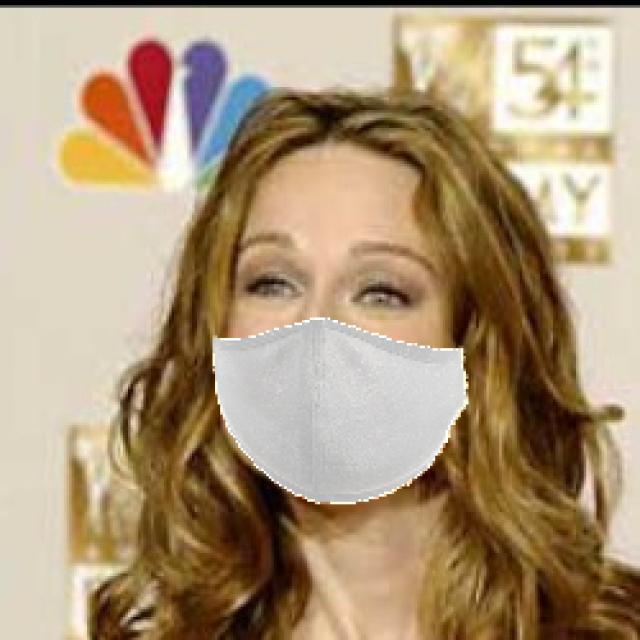mask: (196, 314, 499, 514)
